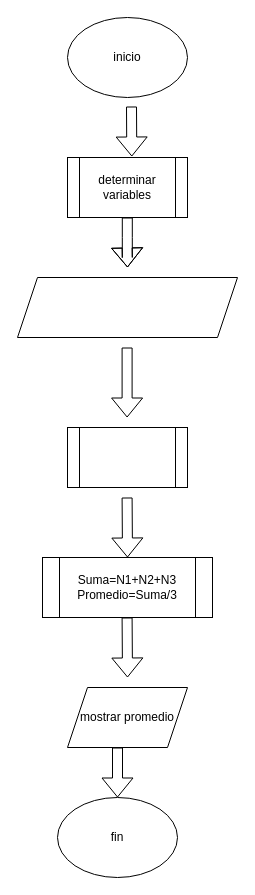
Image size: 255x895. Some labels were removed from this diagram. Here are the shapes that lost their labels. From the top down, the centre of each, then its label:
pixel 127 307: ingrese tres numeros
pixel 127 457: guardamos Numeros en variables N1,N2 y N3
